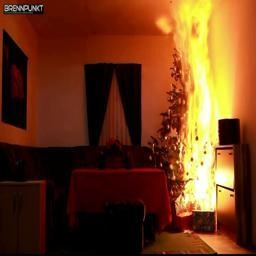fire: (145, 2, 255, 220)
